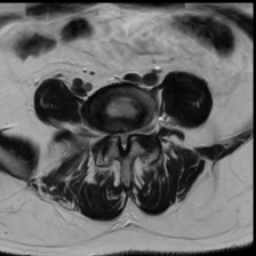CCS_normal: (120, 125, 126, 154)
LFS_severe_stenosis: (132, 122, 138, 138)
LLS_severe_stenosis: (126, 124, 132, 142)
RFS_severe_stenosis: (108, 124, 116, 143)
RLS_severe_stenosis: (116, 125, 120, 145)
